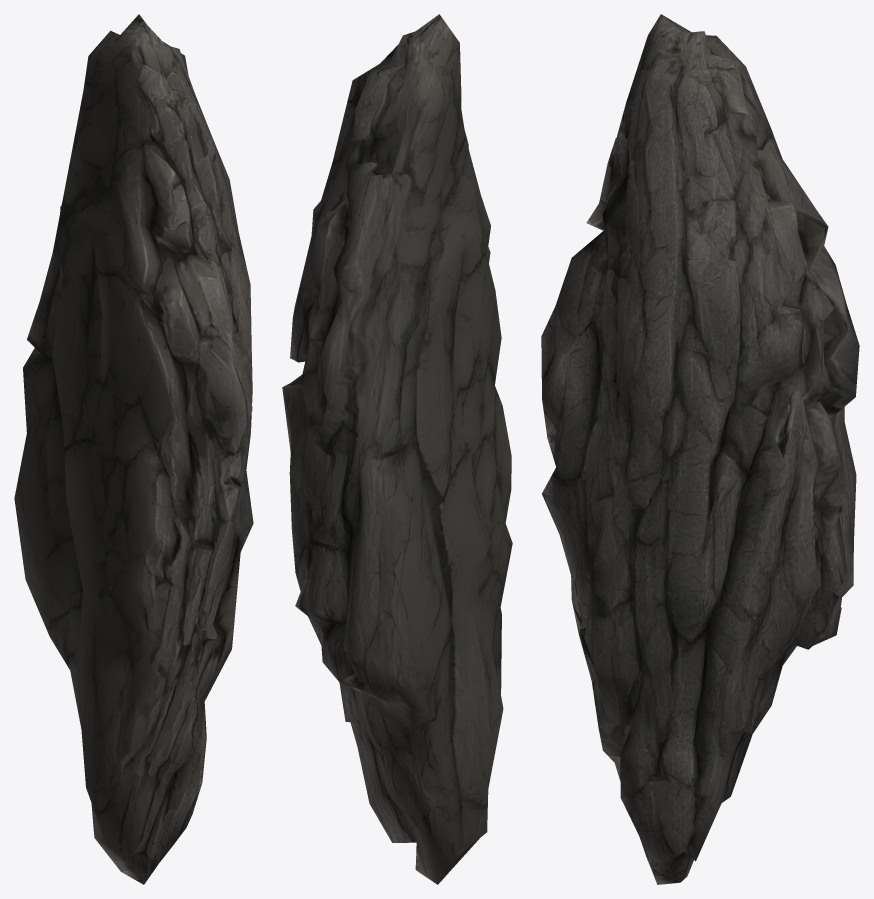
The model's file is stone aoee.fbx.
3 views of the same model, side by side, from view 1: azimuth 30°, elevation 25°; view 2: azimuth 150°, elevation 25°; view 3: azimuth 270°, elevation 25° (orthographic).
Visible parts, largest first — view 1: tripo_node_834092ad; view 2: tripo_node_834092ad; view 3: tripo_node_834092ad.
Part boxes in pixels (x1,y1,x2,y2): tripo_node_834092ad: [14, 14, 253, 884]; tripo_node_834092ad: [282, 14, 512, 884]; tripo_node_834092ad: [541, 14, 859, 884].
Size of the model in its own units: 10.54 by 55 by 18.18.
Materials: 1 (1 with a texture image).
